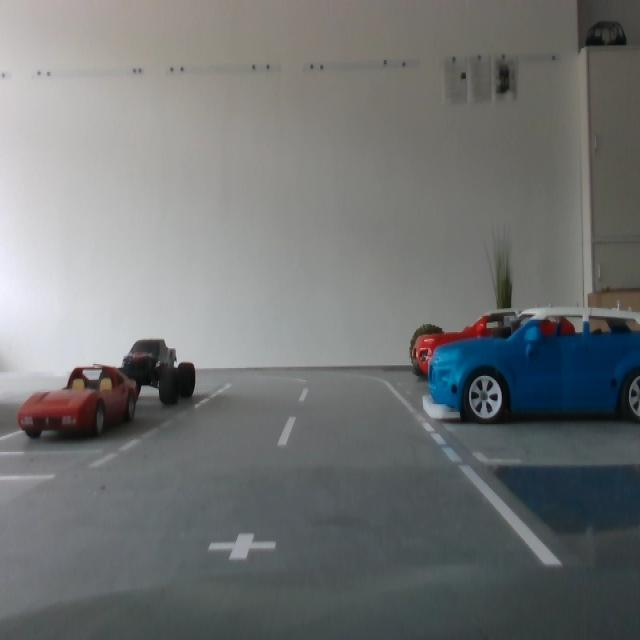car: (428, 306, 640, 425), (412, 309, 579, 377), (18, 364, 141, 440), (121, 338, 196, 405)
potted plant: (486, 222, 516, 359)
